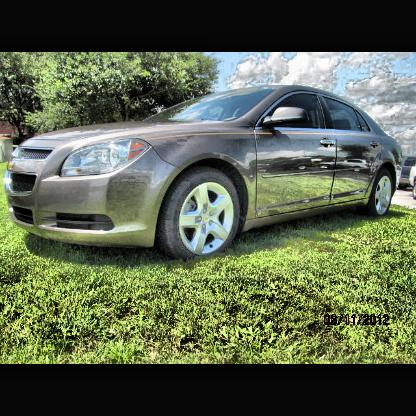Chevrolet Malibu Hybrid Sedan 2010: (4, 84, 409, 266)
